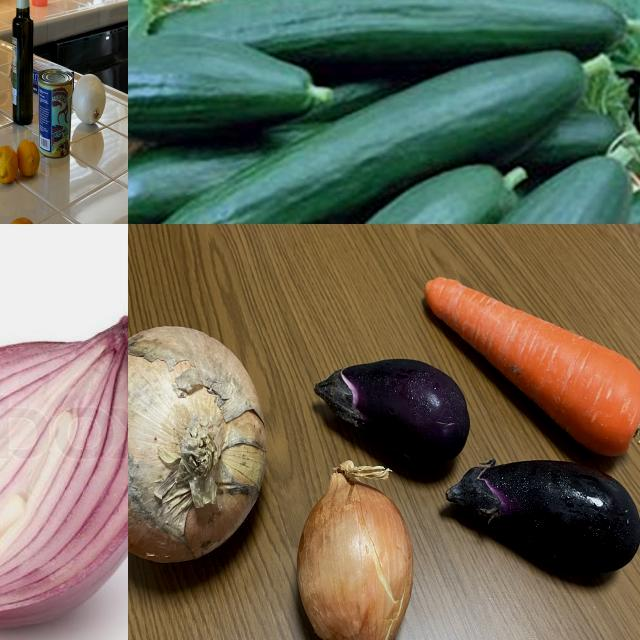carrot: (424, 280, 640, 458)
cucumber: (129, 46, 582, 225), (132, 1, 628, 81), (249, 157, 640, 225), (129, 165, 523, 225), (129, 122, 327, 225), (129, 35, 312, 144)
eggplant: (448, 453, 640, 587), (310, 357, 477, 473)
onion: (1, 309, 129, 634), (129, 322, 275, 579), (296, 471, 415, 640), (76, 72, 107, 128)
